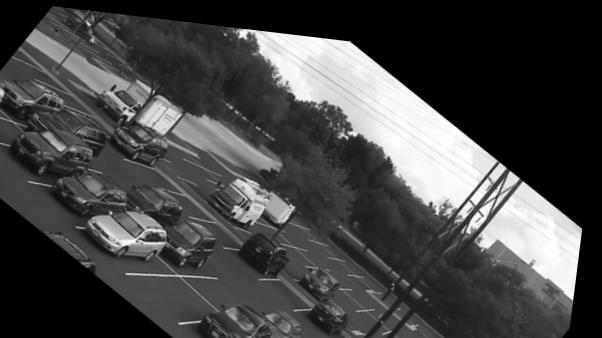empty: (132, 267, 223, 313), (204, 270, 258, 297), (131, 157, 182, 185), (171, 185, 218, 214), (13, 59, 63, 86), (268, 274, 315, 299), (205, 211, 244, 237), (55, 86, 94, 111), (190, 156, 231, 178), (359, 300, 397, 323), (95, 154, 131, 176), (375, 297, 409, 320), (12, 47, 45, 69), (286, 237, 320, 258), (0, 113, 26, 139), (400, 317, 431, 338), (262, 216, 296, 235), (353, 278, 385, 298), (343, 280, 372, 301), (418, 313, 446, 333), (307, 239, 336, 258), (333, 260, 363, 278), (285, 220, 315, 238), (387, 322, 419, 338), (357, 265, 390, 279), (336, 326, 372, 338), (290, 246, 309, 268), (298, 216, 325, 231), (317, 233, 344, 247), (335, 250, 364, 263), (351, 302, 369, 319), (434, 326, 459, 338)
occupied: (88, 205, 172, 261), (12, 125, 96, 179), (51, 170, 130, 213), (201, 296, 278, 338), (110, 111, 171, 164), (210, 171, 274, 220), (42, 105, 109, 149), (236, 224, 295, 271), (130, 179, 193, 223), (170, 215, 221, 264), (4, 79, 66, 117), (312, 290, 356, 326), (305, 258, 346, 293), (272, 303, 310, 338), (0, 85, 6, 104)
